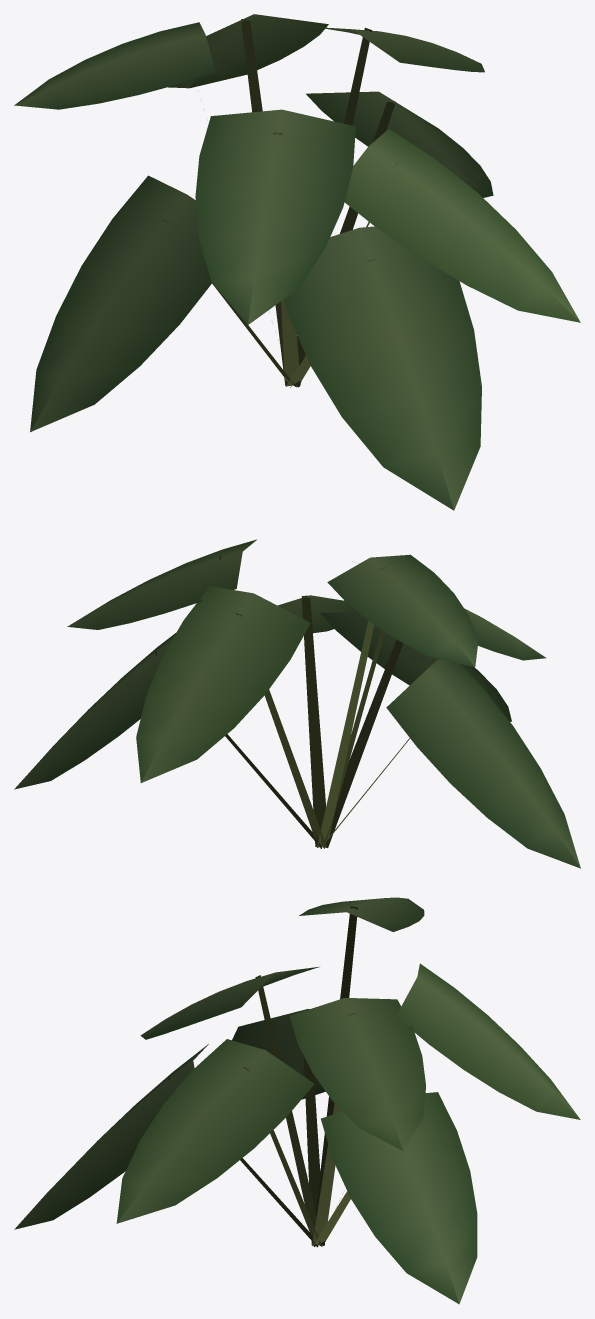
The model's file is shrub.elephant_ear.dark.glb.
3 renders of one model, top to bottom at view 1: azimuth 30°, elevation 25°; view 2: azimuth 150°, elevation 25°; view 3: azimuth 270°, elevation 25°, orthographic. The views are drawn at different scales.
Visible parts, largest first — view 1: shrub_elephant_ear_dark; view 2: shrub_elephant_ear_dark; view 3: shrub_elephant_ear_dark.
Boxes of the visible parts, x1,y1,x2,y2 form: shrub_elephant_ear_dark: [14, 14, 580, 510]; shrub_elephant_ear_dark: [14, 539, 580, 868]; shrub_elephant_ear_dark: [14, 897, 580, 1304].
Size of what is drawn, in the model's own units: 1.98 by 1.24 by 2.1.
